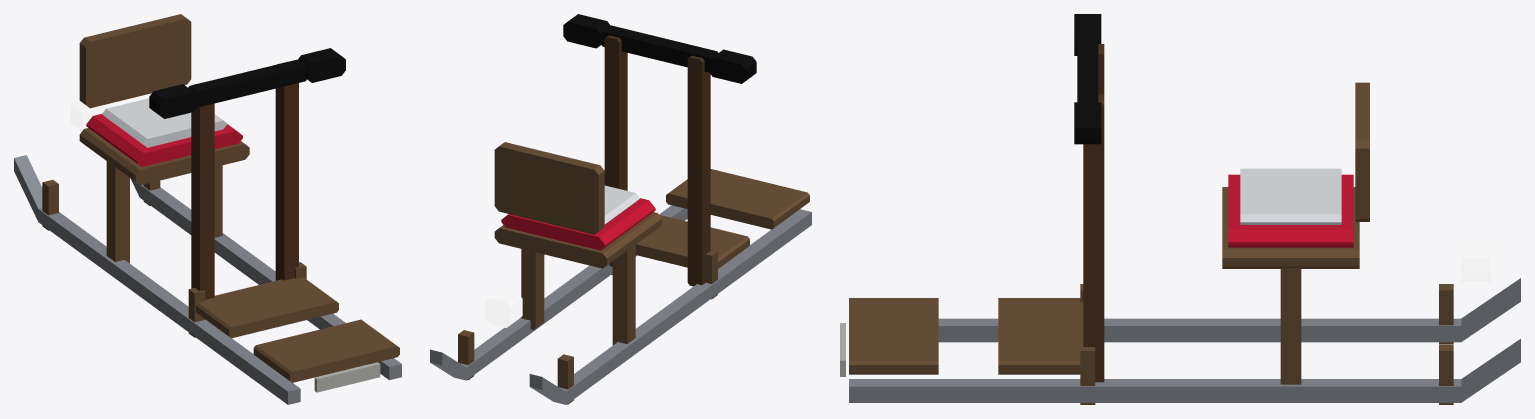
File: kicksled.glb
3 renders of one model, left to right at view 1: azimuth 30°, elevation 25°; view 2: azimuth 150°, elevation 25°; view 3: azimuth 270°, elevation 25°, orthographic. The views are drawn at different scales.
Parts seen in each view (by area): view 1: body.005; view 2: body.005; view 3: body.005.
Part boxes in pixels (x1,y1,x2,y2): body.005: (14, 14, 401, 404); body.005: (430, 14, 811, 404); body.005: (840, 14, 1520, 404).
Size of the model in its own units: 0.88 by 1.12 by 2.28.
